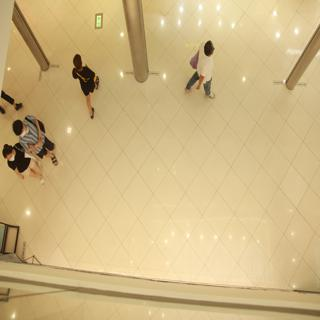person: (179, 33, 228, 121), (69, 44, 112, 117), (1, 142, 53, 199), (14, 116, 63, 165)
